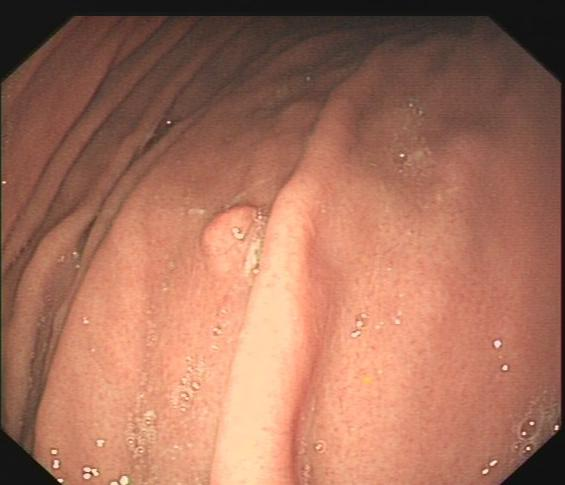Polyp: (194, 199, 262, 259)
